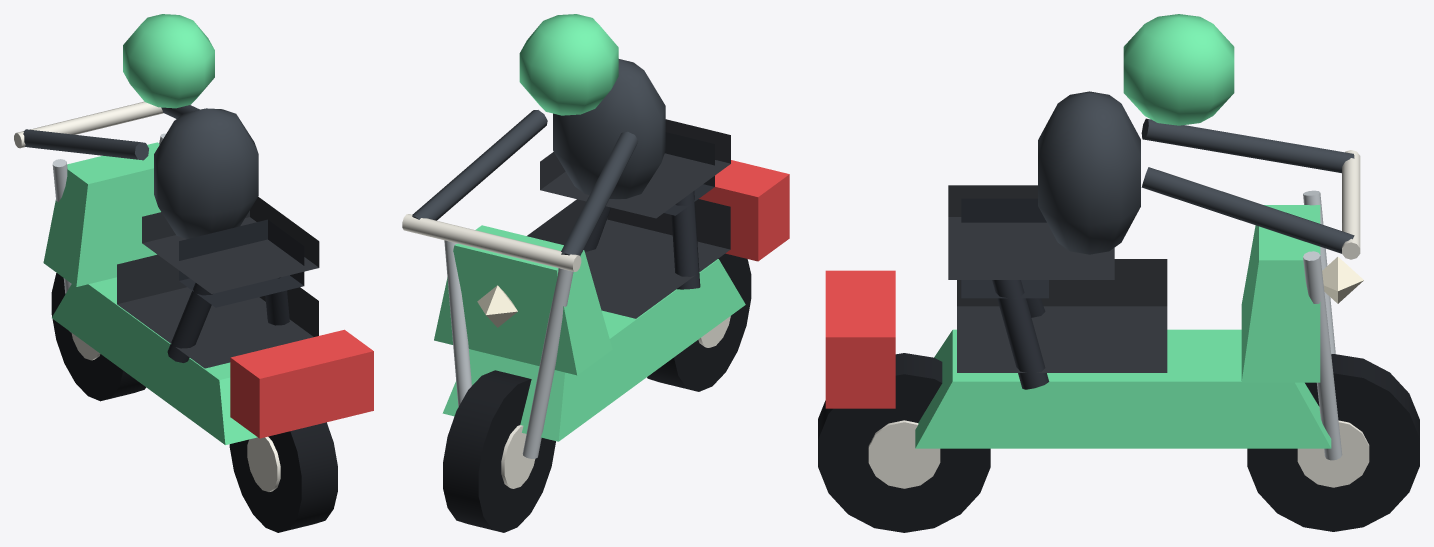
The model's file is ebike-rider.gltf.
3 renders of one model, left to right at view 1: azimuth 30°, elevation 25°; view 2: azimuth 150°, elevation 25°; view 3: azimuth 270°, elevation 25°, orthographic. The views are drawn at different scales.
Parts seen in each view (by area): view 1: ebike_rider; view 2: ebike_rider; view 3: ebike_rider.
Part boxes in pixels (box(x1,y1,x2,y2)): ebike_rider: box(14, 14, 373, 532); ebike_rider: box(402, 14, 789, 532); ebike_rider: box(818, 14, 1419, 532).
Bounding box in the file's own units: 0.5 × 1.27 × 1.37.
